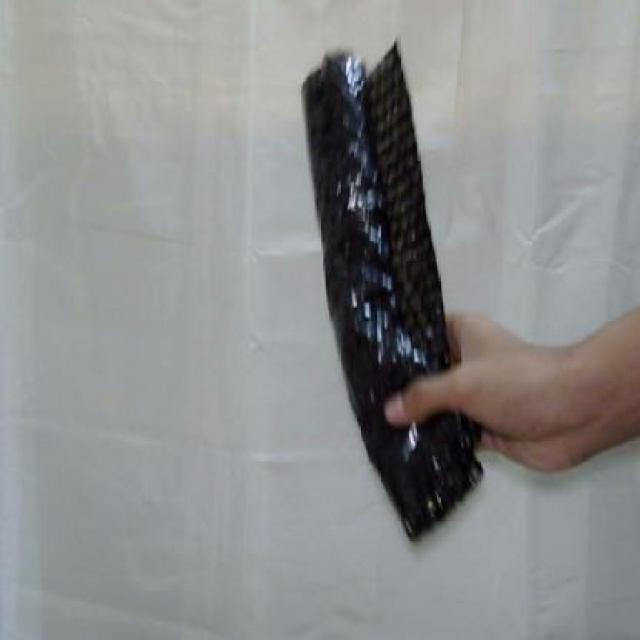Plastic: (286, 29, 498, 564)
